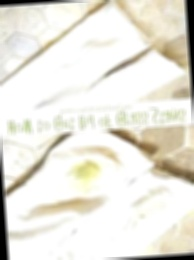earth: (69, 162, 99, 189)
